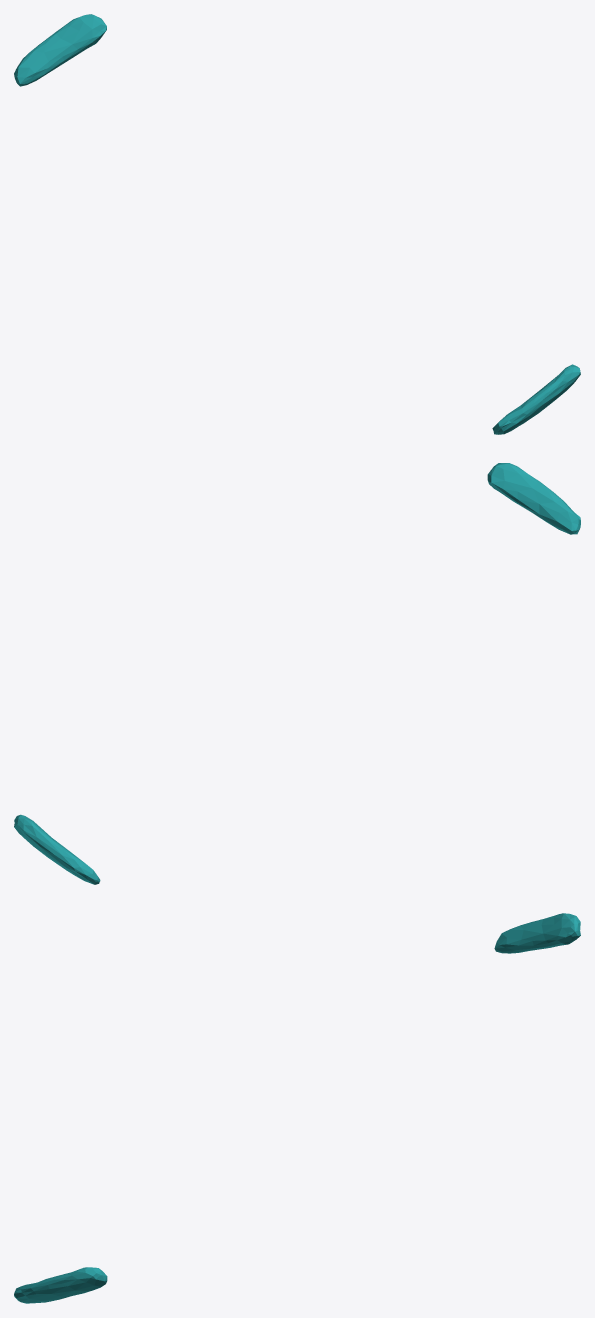
3 views of the same model, one above another, from view 1: azimuth 30°, elevation 25°; view 2: azimuth 150°, elevation 25°; view 3: azimuth 330°, elevation 25° (orthographic).
Parts seen in each view (by area): view 1: 312782594.obj; view 2: 312782594.obj; view 3: 312782594.obj.
Boxes of the visible parts, bbox=[...] form: 312782594.obj: bbox=[14, 14, 580, 434]; 312782594.obj: bbox=[14, 463, 580, 884]; 312782594.obj: bbox=[14, 913, 580, 1303].
Size of the model in its own units: 770 by 445 by 7569.
